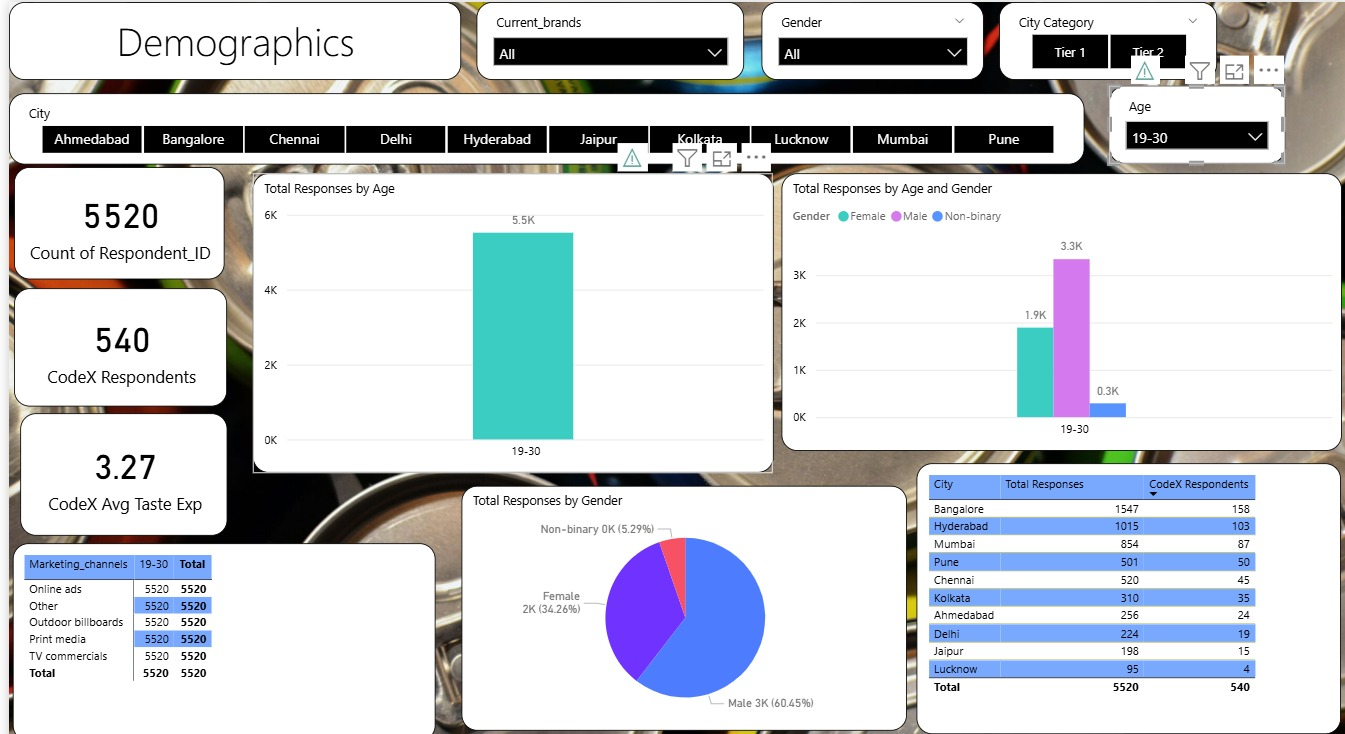

What the dashboard file says about the page in this screenshot:
{"tool":"powerbi","page":{"name":"Page 1","canvas":[1280,720],"ordinal":0},"visuals":[{"type":"textbox","box":[0,0,431,74.7],"z":0},{"type":"slicer","fields":{"Values":["fact_survey_responses.Current_brands"]},"box":[445.4,0,255.5,74.7],"z":1000},{"type":"slicer","fields":{"Values":["dim_repondents.Gender"]},"box":[718,0,212.2,74.7],"z":2000},{"type":"slicer","fields":{"Values":["dim_cities.Tier"]},"box":[944.6,0,208.3,74.7],"z":3000},{"type":"slicer","fields":{"Values":["dim_cities.City"]},"box":[0,86.5,1025.8,68.1],"z":4000},{"type":"slicer","fields":{"Values":["dim_repondents.Age"]},"box":[1049.4,79.9,167.7,74.7],"z":5000},{"type":"card","fields":{"Values":["Table.CodeX Respondents"]},"box":[5.2,272.5,203.1,112.7],"z":6000},{"type":"card","fields":{"Values":["Table.CodeX Avg Taste Exp"]},"box":[10.5,391.7,197.8,116.6],"z":7000},{"type":"card","fields":{"Values":["CountNonNull(dim_repondents.Respondent_ID)"]},"box":[5.2,157.2,200.5,107.4],"z":8000},{"type":"tableEx","fields":{"Values":["dim_cities.City","Table.Total Responses","Table.CodeX Respondents"]},"box":[866,440.2,404.8,258.1],"z":9000},{"type":"clusteredColumnChart","fields":{"Y":["Table.Total Responses"],"Category":["dim_repondents.Age"],"Series":["dim_repondents.Gender"]},"box":[736.3,163.8,534.5,264.6],"z":10000},{"type":"pieChart","fields":{"Category":["dim_repondents.Gender"],"Y":["Table.Total Responses"]},"box":[431,461.2,424.5,233.2],"z":11000},{"type":"pivotTable","title":"Marketing Channels","fields":{"Rows":["fact_survey_responses.Marketing_channels"],"Columns":["dim_repondents.Age"],"Values":["Table.Total Responses"]},"box":[3.9,516.2,403.5,188.7],"z":12000},{"type":"clusteredColumnChart","fields":{"Y":["Table.Total Responses"],"Category":["dim_repondents.Age"]},"box":[231.9,163.8,496.5,285.6],"z":13000}]}

Visuals, with their boxes in screenshot pixels (x1, y1, x2, y2):
textbox: bbox=(7, 0, 457, 78)
slicer - fact_survey_responses.Current_brands: bbox=(472, 0, 739, 78)
slicer - dim_repondents.Gender: bbox=(757, 0, 979, 78)
slicer - dim_cities.Tier: bbox=(994, 0, 1211, 78)
slicer - dim_cities.City: bbox=(7, 90, 1078, 161)
slicer - dim_repondents.Age: bbox=(1103, 83, 1278, 161)
card - Table.CodeX Respondents: bbox=(12, 285, 225, 402)
card - Table.CodeX Avg Taste Exp: bbox=(18, 409, 225, 531)
card - CountNonNull(dim_repondents.Respondent_ID): bbox=(12, 164, 222, 276)
tableEx - dim_cities.City x Table.Total Responses: bbox=(912, 460, 1334, 729)
clusteredColumnChart - Table.Total Responses x dim_repondents.Age: bbox=(776, 171, 1334, 447)
pieChart - dim_repondents.Gender x Table.Total Responses: bbox=(457, 482, 901, 725)
"Marketing Channels" pivotTable: bbox=(11, 539, 433, 733)
clusteredColumnChart - Table.Total Responses x dim_repondents.Age: bbox=(249, 171, 768, 469)
